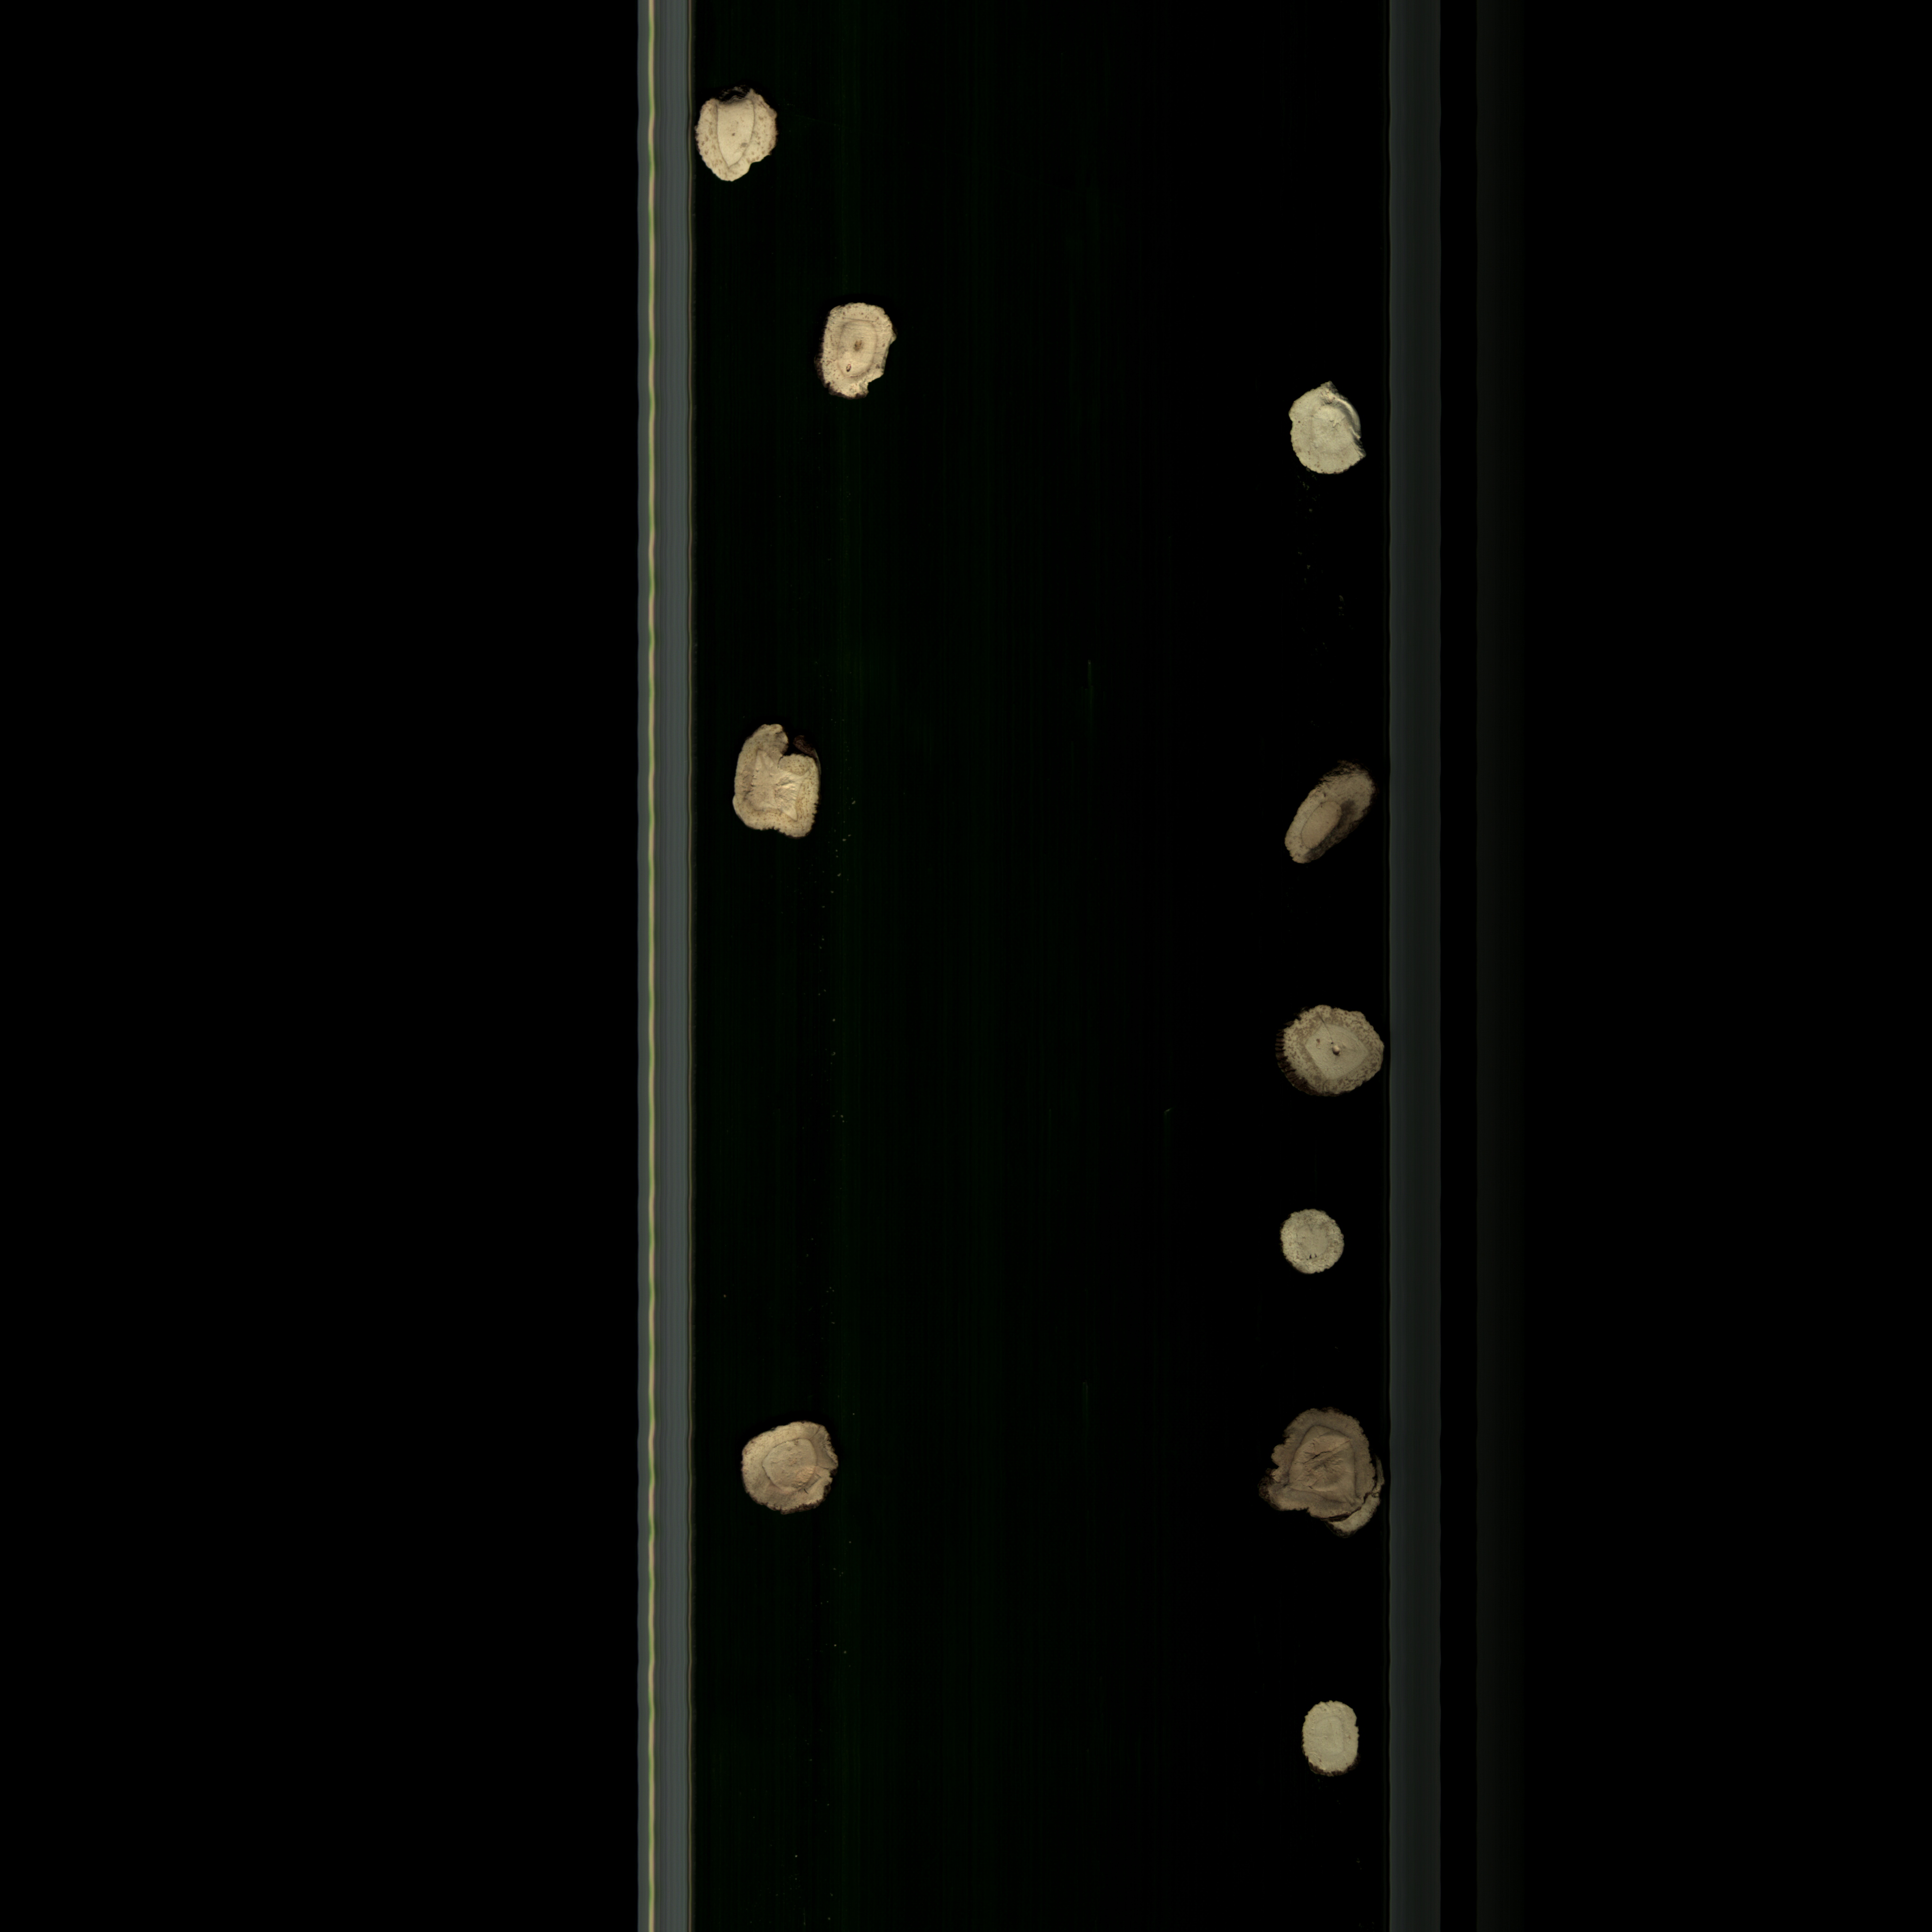debris: (1274, 377, 1376, 483)
hole: (1274, 1205, 1357, 1283)
moldy: (1265, 1399, 1389, 1539), (724, 711, 824, 851), (809, 287, 909, 419), (1267, 996, 1391, 1100), (731, 1417, 844, 1527), (1272, 763, 1380, 865), (694, 92, 796, 195)
